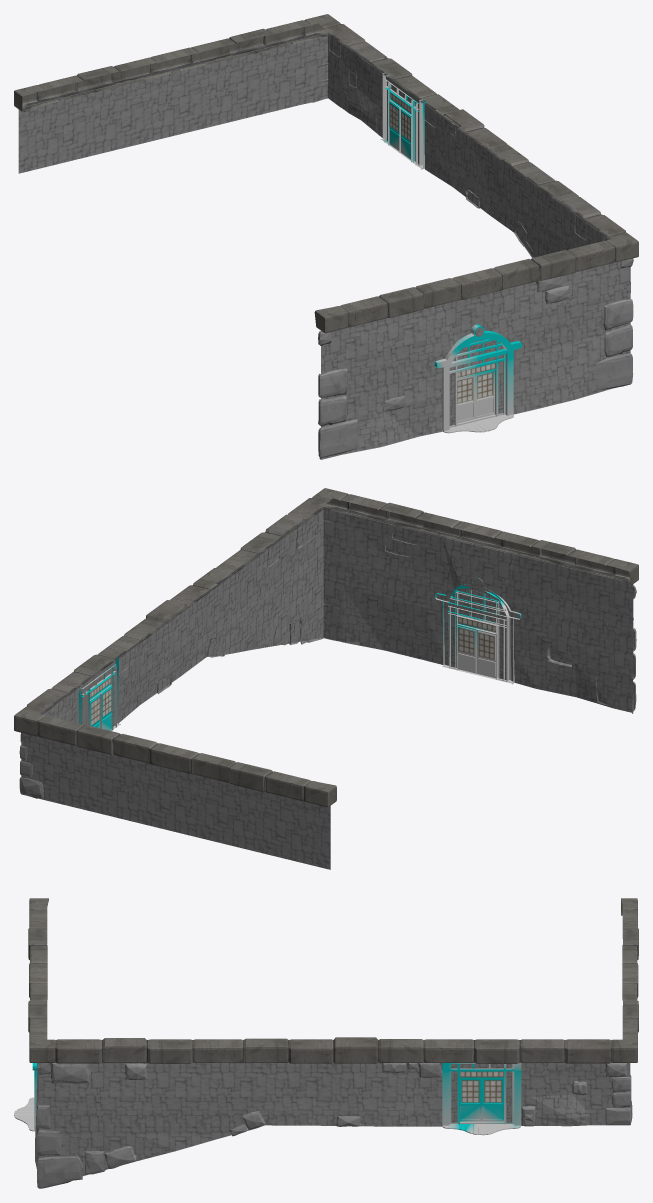
File: SM_ENV_KNVLLG_AreaA_Building_A_BaseWall.mo.fbx
The picture shows the model from 3 angles, top to bottom: view 1: azimuth 30°, elevation 25°; view 2: azimuth 150°, elevation 25°; view 3: azimuth 270°, elevation 25°; orthographic projection. The views are drawn at different scales.
Parts seen in each view (by area): view 1: SM_ENV_KNVLLG_AreaA_Building_A_BaseWall.mo; view 2: SM_ENV_KNVLLG_AreaA_Building_A_BaseWall.mo; view 3: SM_ENV_KNVLLG_AreaA_Building_A_BaseWall.mo.
Part boxes in pixels (x1,y1,x2,y2): SM_ENV_KNVLLG_AreaA_Building_A_BaseWall.mo: (14,14,638,459); SM_ENV_KNVLLG_AreaA_Building_A_BaseWall.mo: (14,488,638,869); SM_ENV_KNVLLG_AreaA_Building_A_BaseWall.mo: (14,898,638,1188).
Bounding box in the file's own units: 21.58 × 9.19 × 35.93.
